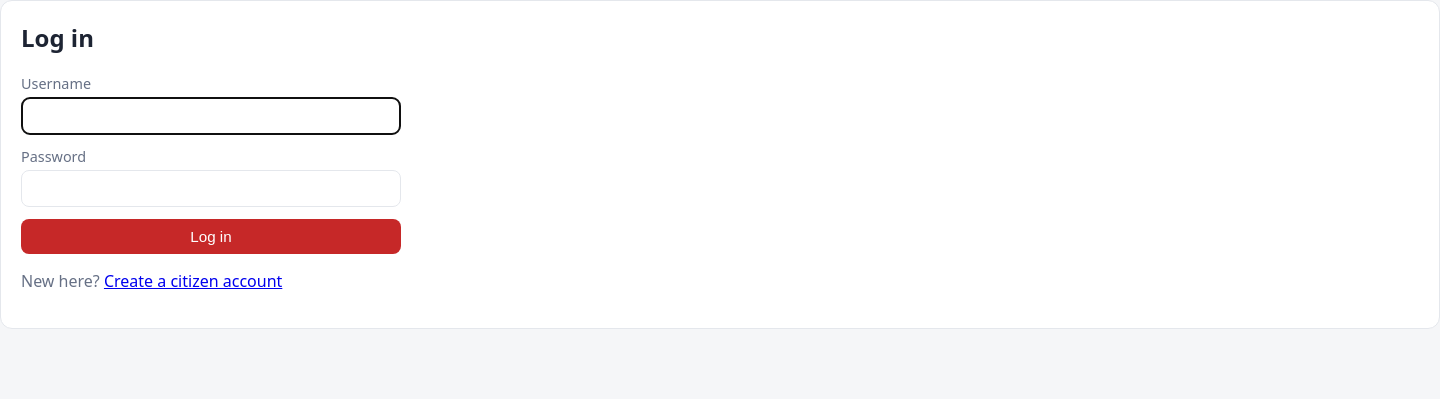
Test: Login page › says so when the password is wrong
The width and height of the screenshot is (1440, 399).
In the field labelled "Username": (211, 116) 21,97 -> 401,134, type "ravi"
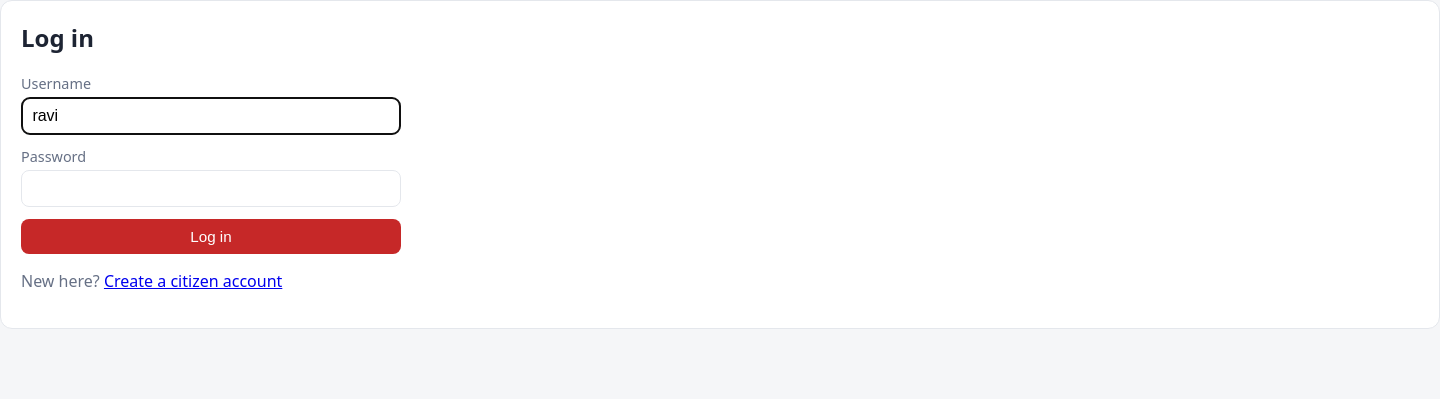
In the password field labelled "Password": (211, 188) 21,170 -> 401,207, type "wrong"
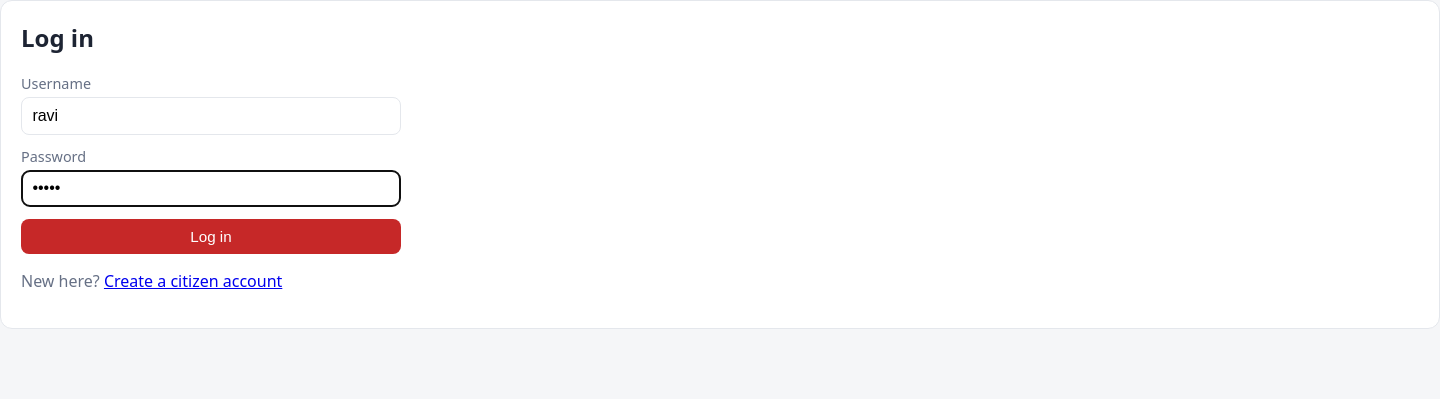
Click the button "Log in": (211, 236) 21,219 -> 401,254
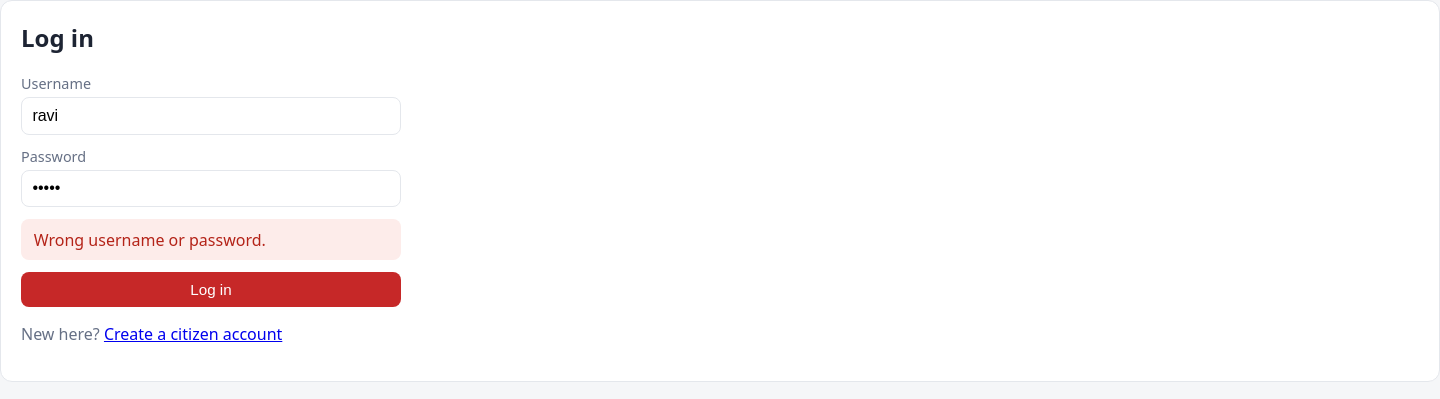
Check: the text "Wrong username or password." is shown, box 21,219 -> 401,260
